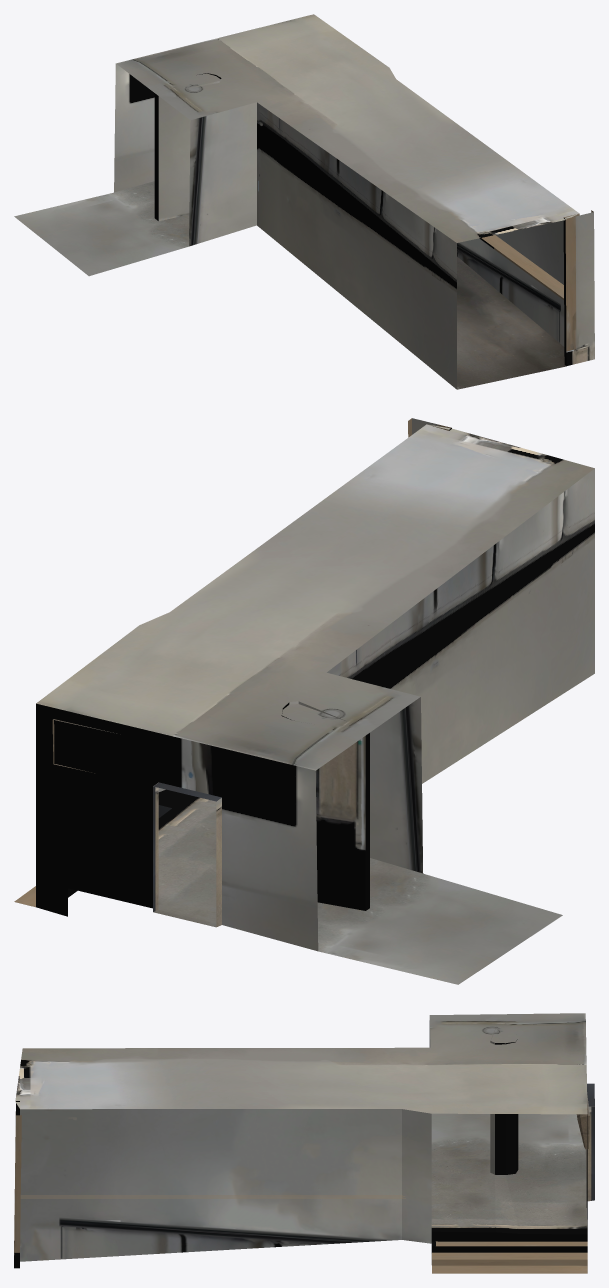
The model's file is large-c-LP.fbx.
3 renders of one model, top to bottom at view 1: azimuth 30°, elevation 25°; view 2: azimuth 150°, elevation 25°; view 3: azimuth 270°, elevation 25°, orthographic. The views are drawn at different scales.
Visible parts, largest first — view 1: large-c-LP; view 2: large-c-LP; view 3: large-c-LP.
Part boxes in pixels (left/top/right/bottom): large-c-LP: left=14, top=14, right=594, bottom=389; large-c-LP: left=14, top=418, right=594, bottom=984; large-c-LP: left=14, top=1013, right=594, bottom=1273.
Bounding box in the file's own units: 737 × 331 × 1124.
1 material, 1 textured.
